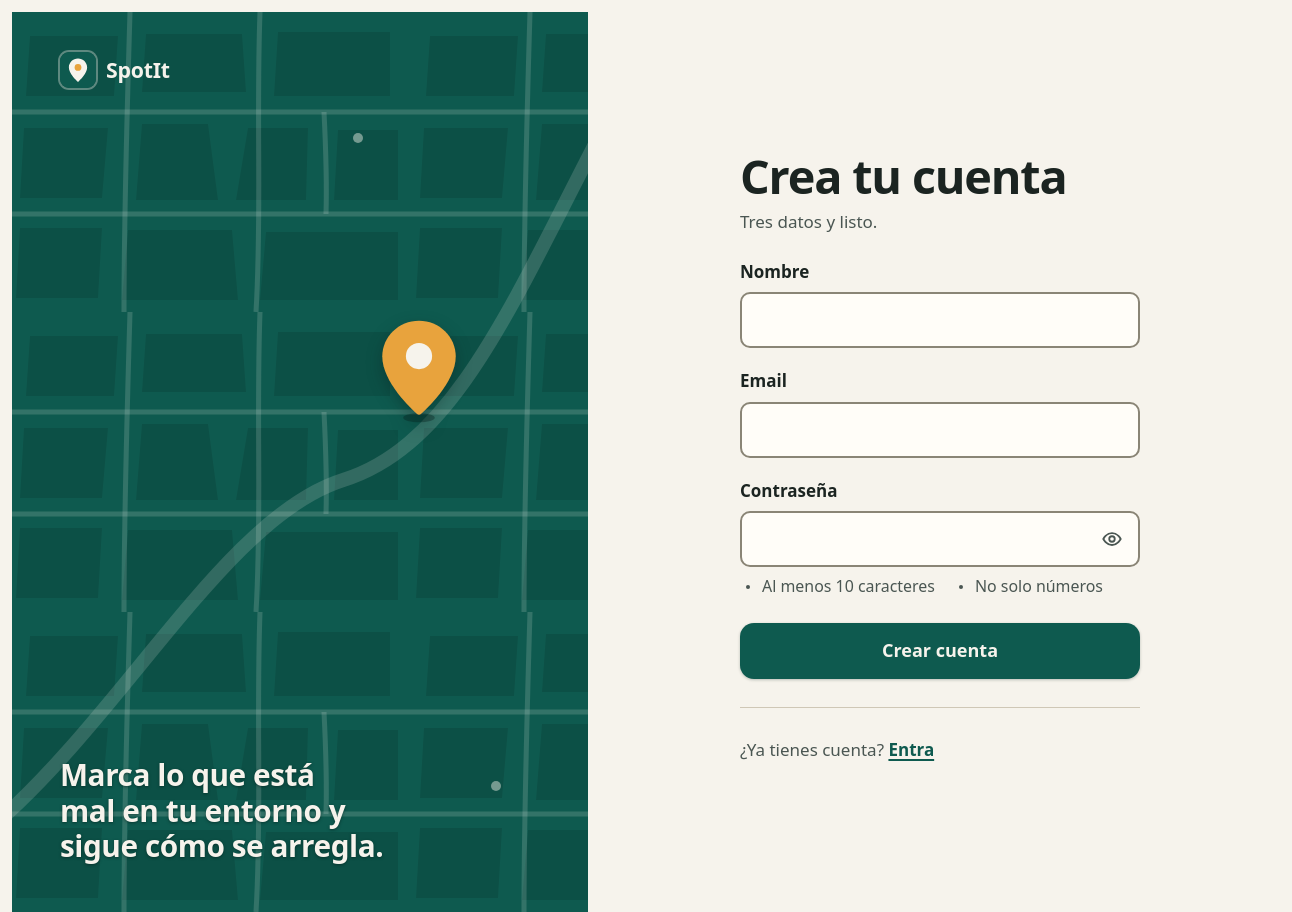
Test: formulario de registro › coloca los errores del servidor en su campo
Type "Ana López" into the field labelled "Nombre". click: (940, 320)
box: [740,292,1140,348]
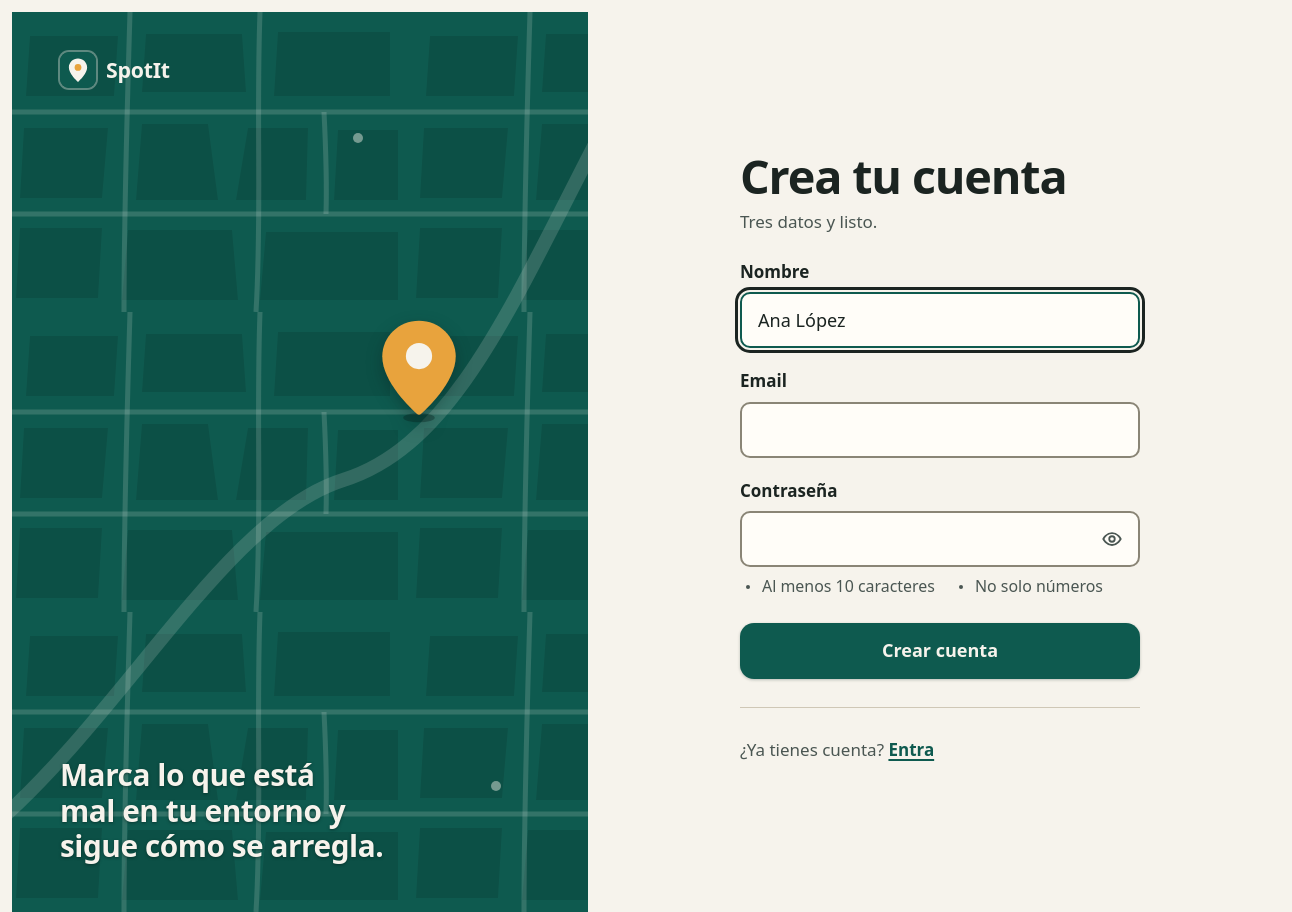
Type "ana@ejemplo.mx" into the field labelled "Email". click: (940, 430)
box: [740,402,1140,458]
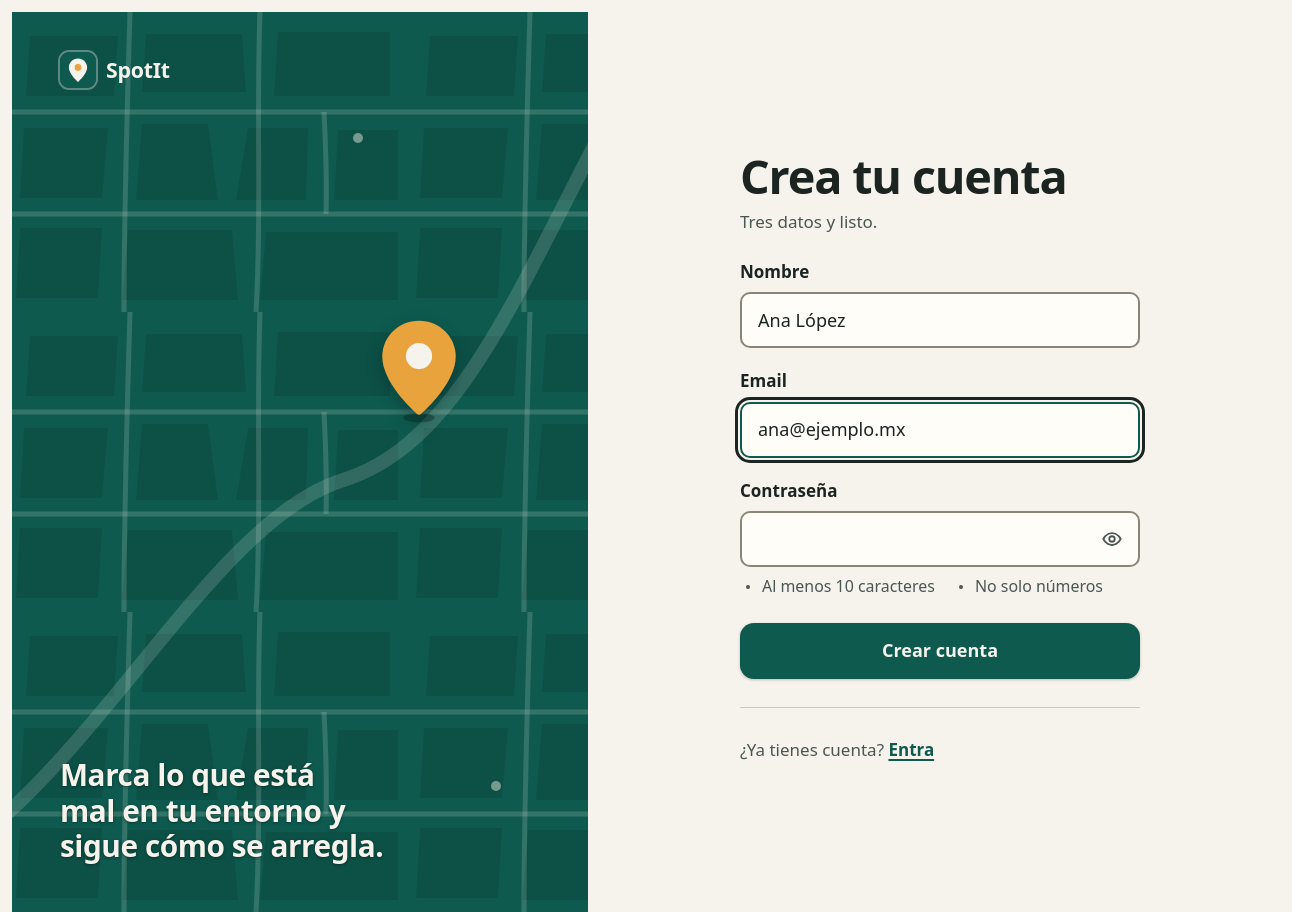
Type "girasol-azul" into the password field labelled "Contraseña". click: (940, 539)
box: [740,511,1140,567]
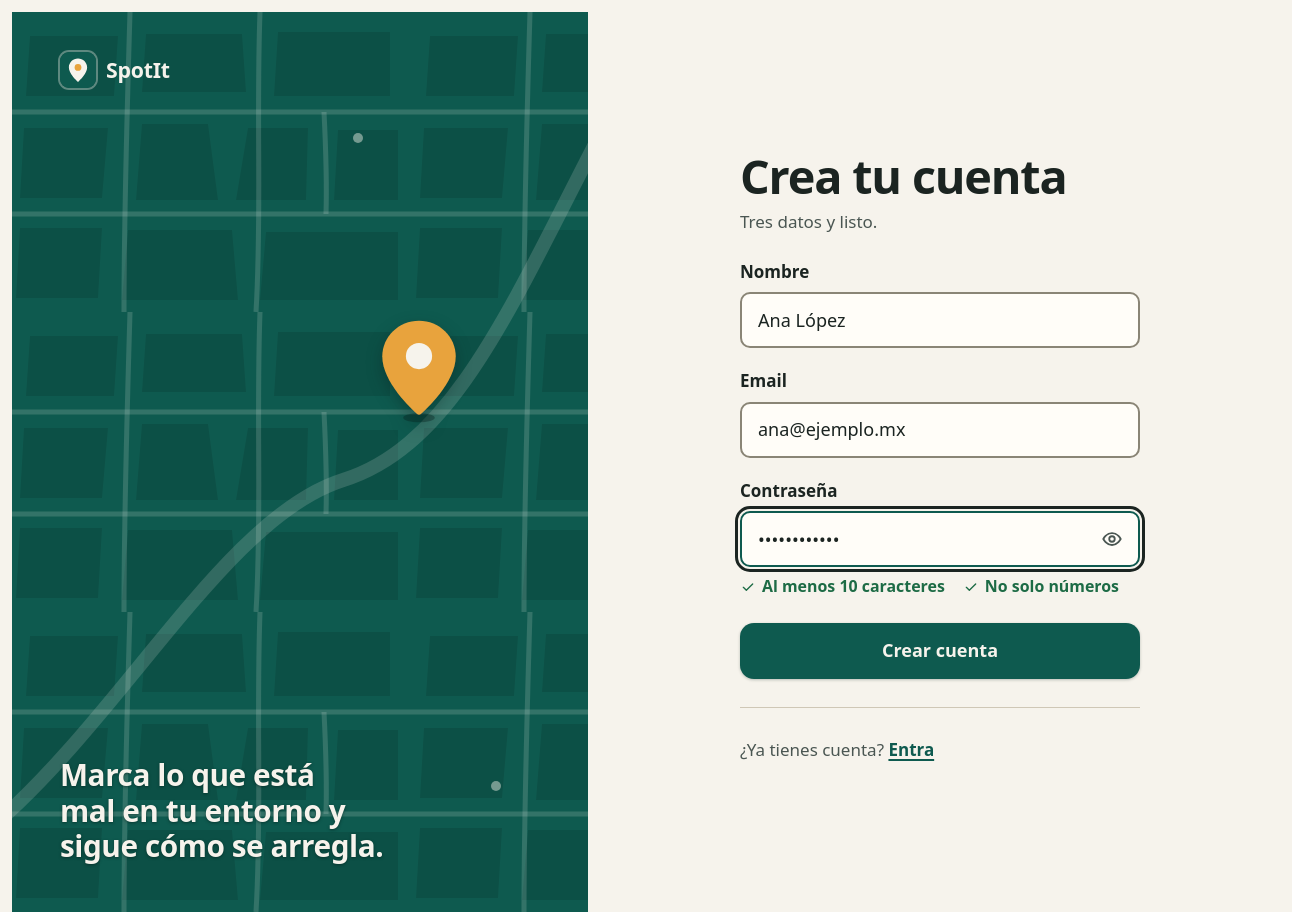
Click the button "Crear cuenta". click: (940, 651)
box: [740,623,1140,679]
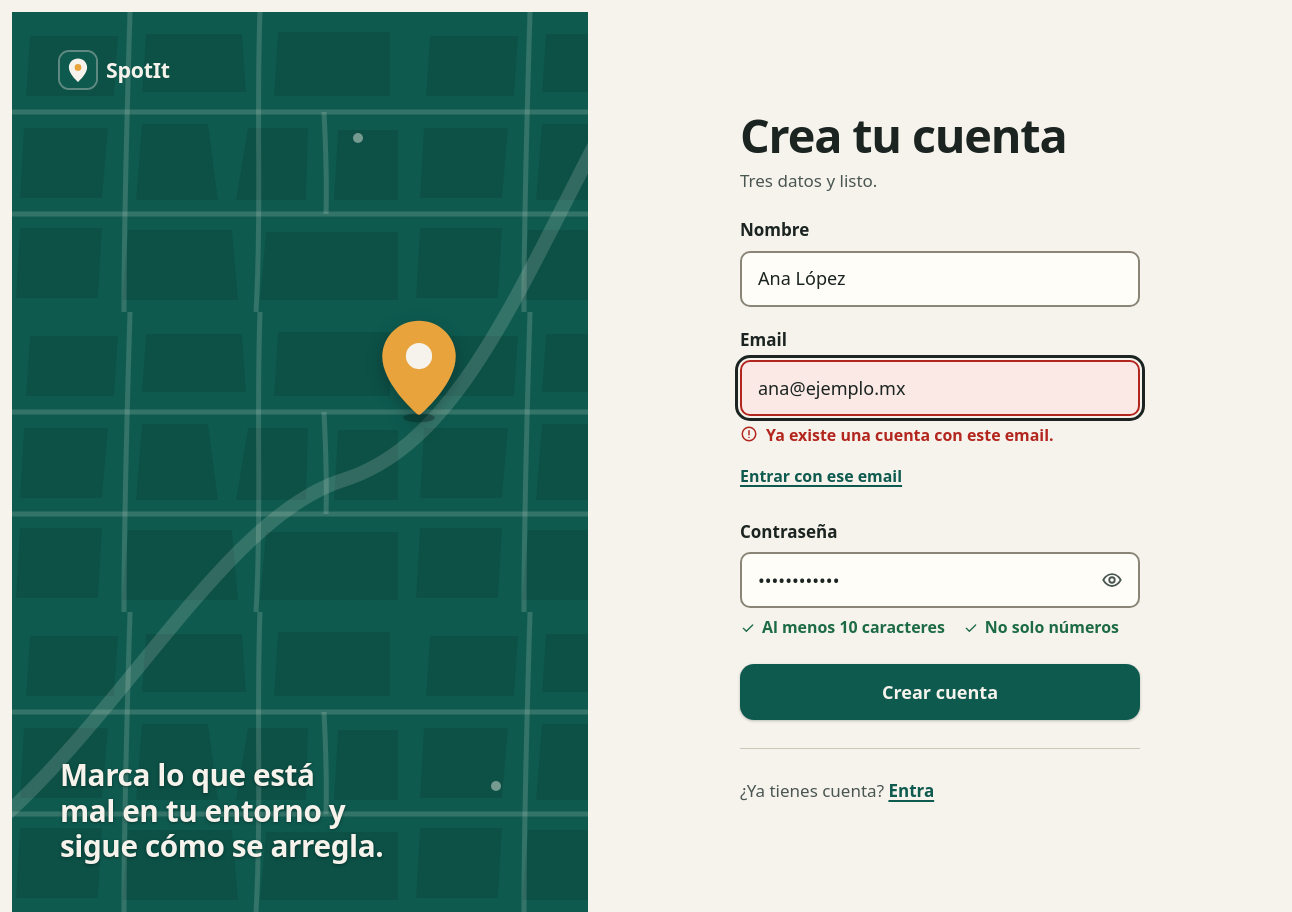
Result: the text "Ya existe una cuenta con este email." is shown at [766,424,1054,447]
Result: the link "Entrar con ese email" is shown at [740,465,902,487]
